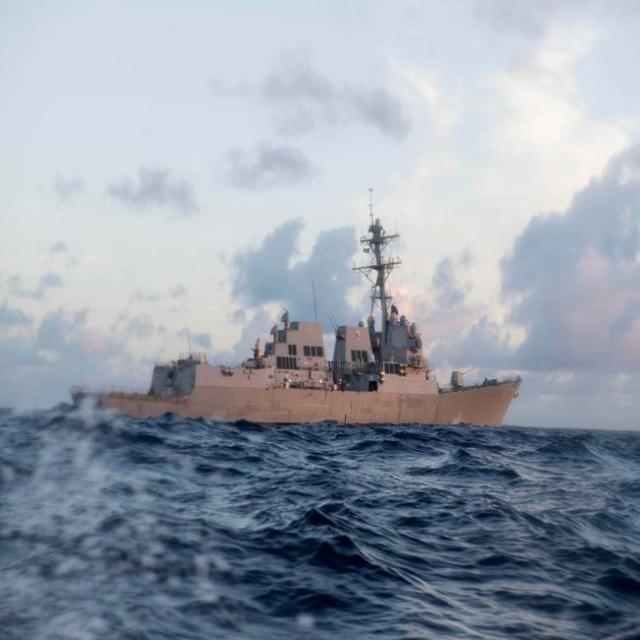navalvessels: (74, 182, 539, 435)
